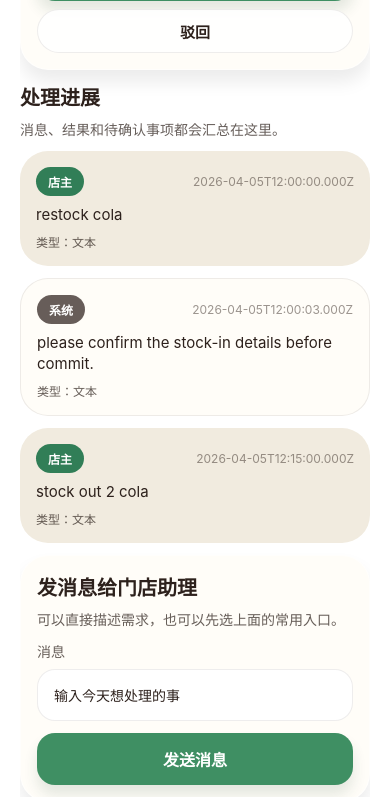
ChatScreen › submits a text message and refreshes the timeline
The width and height of the screenshot is (390, 797).
(page scrolled)
Type "Count chips too" into the field with placeholder "输入今天想处理的事".
click(195, 695); type("Count chips too")  # box [37, 669, 353, 721]
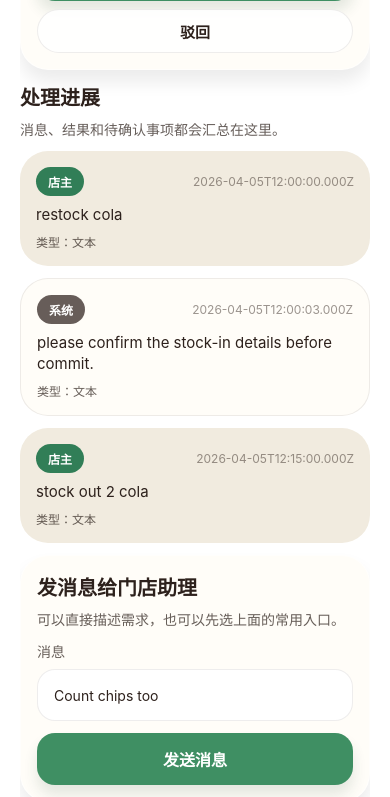
Click the button "发送消息".
click(195, 759)  # box [37, 733, 353, 785]
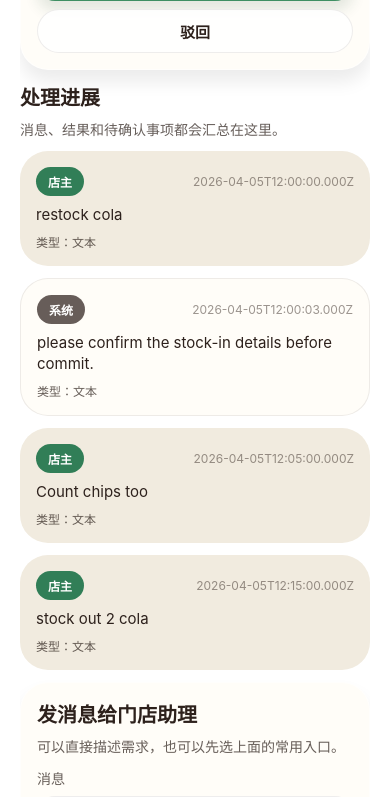
Result: the text "Count chips too" is shown at [36, 482, 148, 501]
